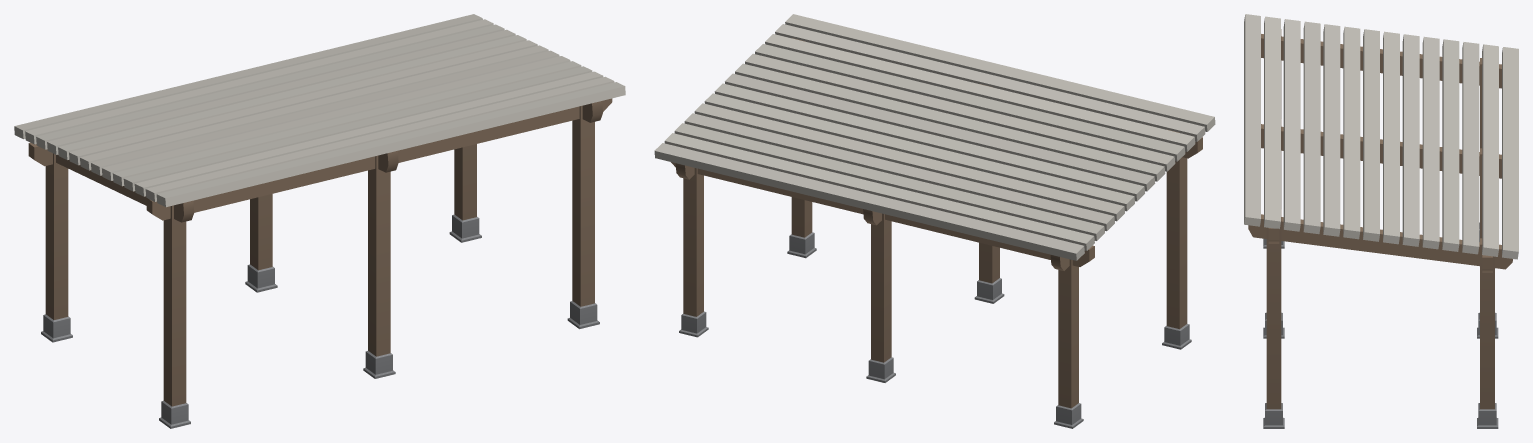
File: jp_shed.glb
The picture shows the model from 3 angles, left to right: view 1: azimuth 30°, elevation 25°; view 2: azimuth 150°, elevation 25°; view 3: azimuth 270°, elevation 25°; orthographic projection. The views are drawn at different scales.
Parts seen in each view (by area): view 1: jp_shed; view 2: jp_shed; view 3: jp_shed.
Part boxes in pixels (<box>): jp_shed: <box>14,14,625,428</box>; jp_shed: <box>654,14,1215,428</box>; jp_shed: <box>1244,14,1518,428</box>.
Size of the model in its own units: 4.5 by 2.26 by 2.57.
